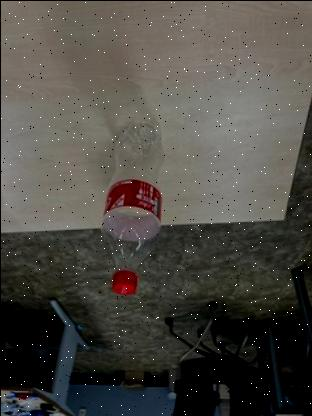Plastic Bottle: (99, 111, 165, 295)
